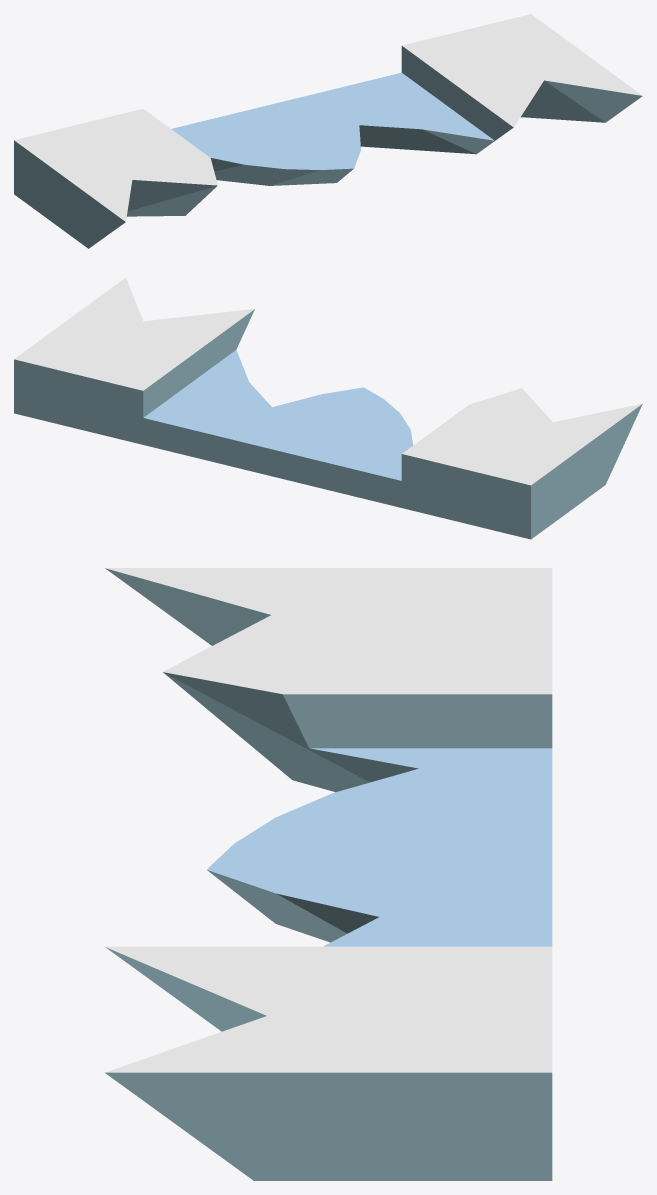
Rendered from Terrain_Modular_Tiles_Snow_Ice_Cliff_Edge_River_Outer_04.fbx.
The picture shows the model from 3 angles, top to bottom: view 1: azimuth 30°, elevation 25°; view 2: azimuth 150°, elevation 25°; view 3: azimuth 270°, elevation 25°; orthographic projection. The views are drawn at different scales.
Parts seen in each view (by area): view 1: Terrain_Modular_Tiles_Snow_Ice_Cliff_Edge_River_Outer_04; view 2: Terrain_Modular_Tiles_Snow_Ice_Cliff_Edge_River_Outer_04; view 3: Terrain_Modular_Tiles_Snow_Ice_Cliff_Edge_River_Outer_04.
Part boxes in pixels (x1=…): Terrain_Modular_Tiles_Snow_Ice_Cliff_Edge_River_Outer_04: x1=14, y1=14, x2=642, y2=248; Terrain_Modular_Tiles_Snow_Ice_Cliff_Edge_River_Outer_04: x1=14, y1=277, x2=642, y2=539; Terrain_Modular_Tiles_Snow_Ice_Cliff_Edge_River_Outer_04: x1=105, y1=568, x2=552, y2=1180.
Bounding box in the file's own units: 3000 × 300 × 1125.
